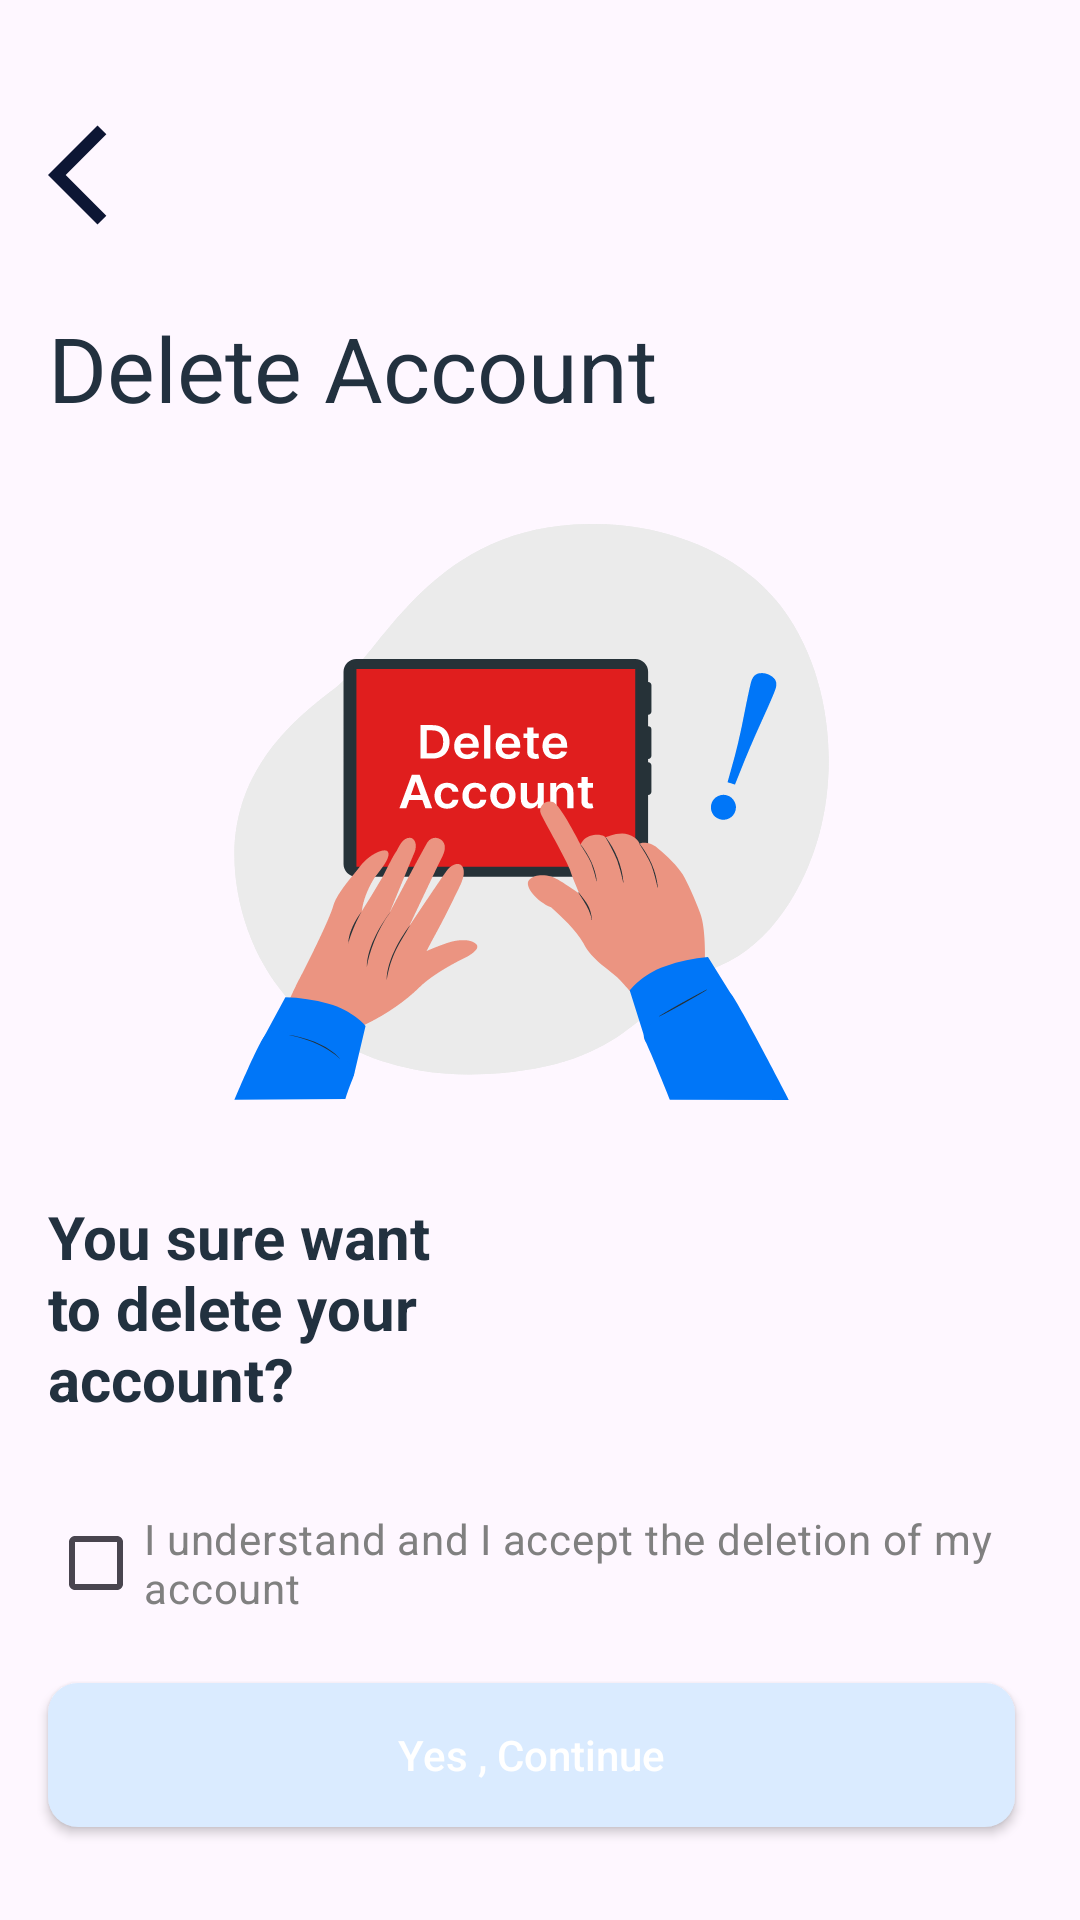

Locate icon controls on the screen. Image size 1080x1920, boxes as (x1, y1, x2, y2).
arrow back darkblue: (48, 125, 107, 225)
